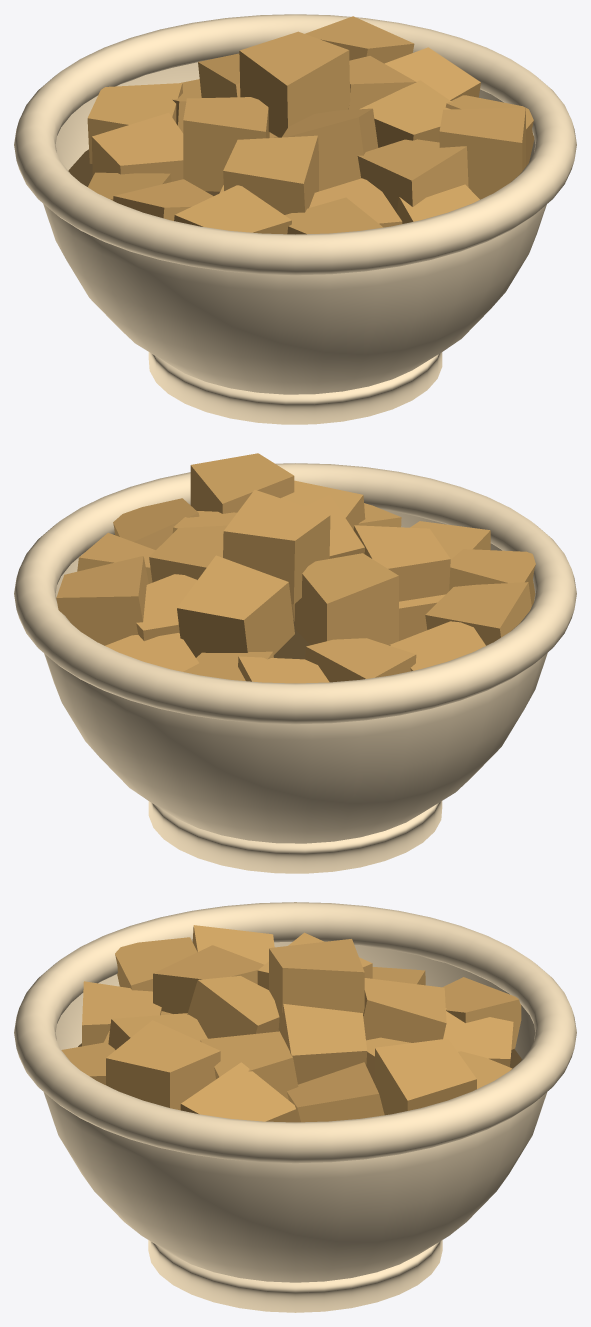
The model's file is sugarbowl.fbx.
3 views of the same model, one above another, from view 1: azimuth 30°, elevation 25°; view 2: azimuth 150°, elevation 25°; view 3: azimuth 270°, elevation 25° (orthographic).
Parts seen in each view (by area): view 1: Sphere.057, Torus, Cylinder, Cube.042, Cube.008, Cube.051, Cube.044, Cube.049, Cube.055, Cube.041, Cube.048, Cube.045 (+13 smaller); view 2: Sphere.057, Torus, Cube.040, Cylinder, Cube.044, Cube.042, Cube.050, Cube.008, Cube.051, Cube.058, Cube.055, Cube.043 (+15 smaller); view 3: Sphere.057, Torus, Cylinder, Cube.051, Cube.042, Cube.050, Cube.043, Cube.040, Cube.041, Cube.053, Cube.046, Cube.008 (+12 smaller).
Boxes of the visible parts, x1,y1,x2,y2 form: Sphere.057: (43,62,546,394); Torus: (14,14,576,275); Cylinder: (148,352,442,424); Cube.042: (239,31,350,137); Cube.008: (223,135,318,214); Cube.051: (439,107,525,199); Cube.044: (183,97,269,191); Cube.049: (357,139,468,212); Cube.055: (91,113,183,181); Cube.041: (282,108,378,191); Cube.048: (359,80,452,147); Cube.045: (87,83,182,163); Sphere.057: (44,510,547,843); Torus: (14,463,576,724); Cube.040: (177,555,294,657); Cylinder: (148,801,442,873); Cube.044: (295,553,398,645); Cube.042: (223,490,330,604); Cube.050: (56,556,148,645); Cube.008: (353,525,450,601); Cube.051: (190,453,294,513); Cube.058: (425,582,531,645); Cube.055: (305,638,416,682); Cube.043: (149,525,227,582); Sphere.057: (43,942,547,1282); Torus: (14,902,576,1163); Cylinder: (148,1240,442,1312); Cube.051: (106,1020,220,1110); Cube.042: (269,939,364,1034); Cube.050: (375,1038,476,1115); Cube.043: (281,1004,367,1084); Cube.040: (363,978,446,1042); Cube.041: (187,976,279,1038); Cube.053: (180,1062,298,1122); Cube.046: (286,1062,384,1122); Cube.008: (153,945,264,1013).
Size of the model in its own units: 140 by 86.71 by 140.
